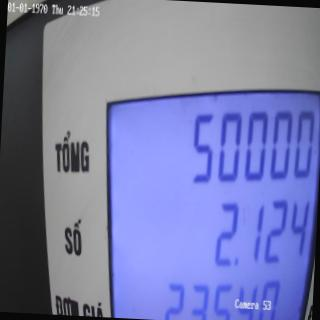screen: (87, 65, 320, 320)
